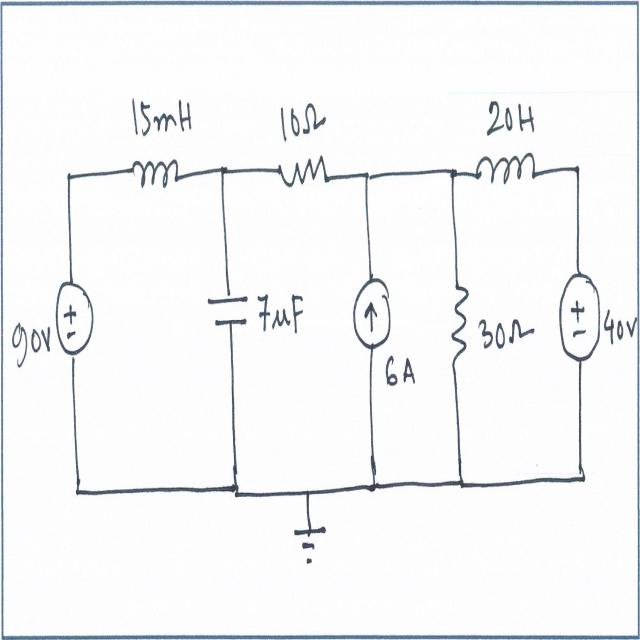capacitor: (203, 279, 253, 345)
current_source: (351, 269, 397, 354)
ground: (288, 516, 330, 574)
inductor: (475, 142, 539, 201), (130, 146, 182, 209)
resistor: (276, 146, 328, 201), (447, 277, 474, 370)
voltage_source: (554, 255, 602, 366), (51, 274, 95, 360)
